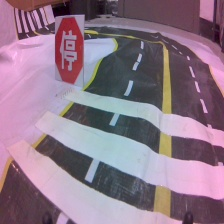stop: (53, 14, 86, 87)
